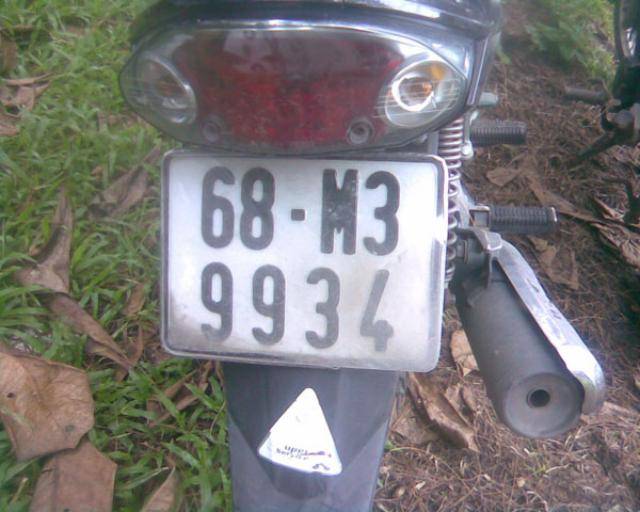plate: (156, 144, 446, 372)
